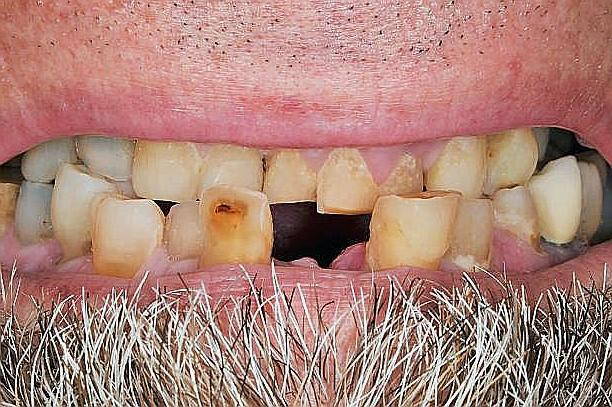Calculus: (194, 183, 271, 269), (376, 193, 450, 266), (82, 225, 163, 279), (481, 124, 536, 178), (377, 157, 424, 209)
Caries: (523, 230, 588, 258)
Hypodontia: (261, 201, 366, 277)
